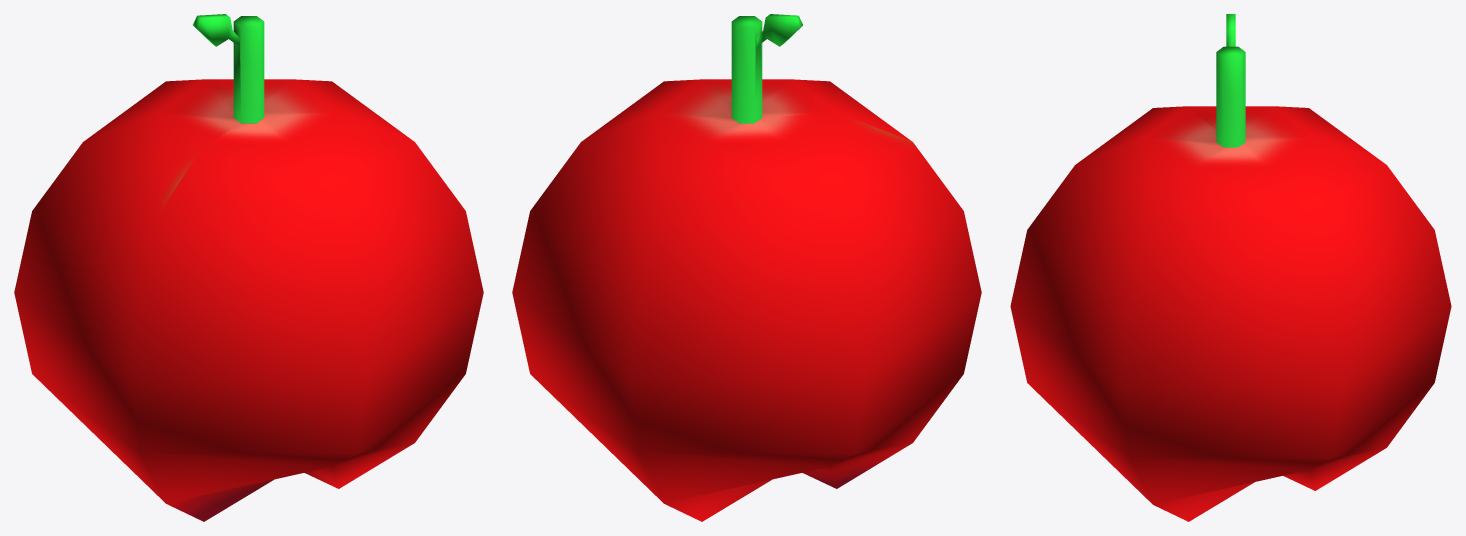
The model's file is apple.fbx.
3 renders of one model, left to right at view 1: azimuth 30°, elevation 25°; view 2: azimuth 150°, elevation 25°; view 3: azimuth 270°, elevation 25°, orthographic. The views are drawn at different scales.
Parts seen in each view (by area): view 1: Sphere; view 2: Sphere; view 3: Sphere.
Part boxes in pixels (x1,y1,x2,y2): Sphere: [14, 14, 483, 521]; Sphere: [512, 14, 981, 521]; Sphere: [1010, 14, 1451, 521].
Bounding box in the file's own units: 1.73 × 2.27 × 2.
